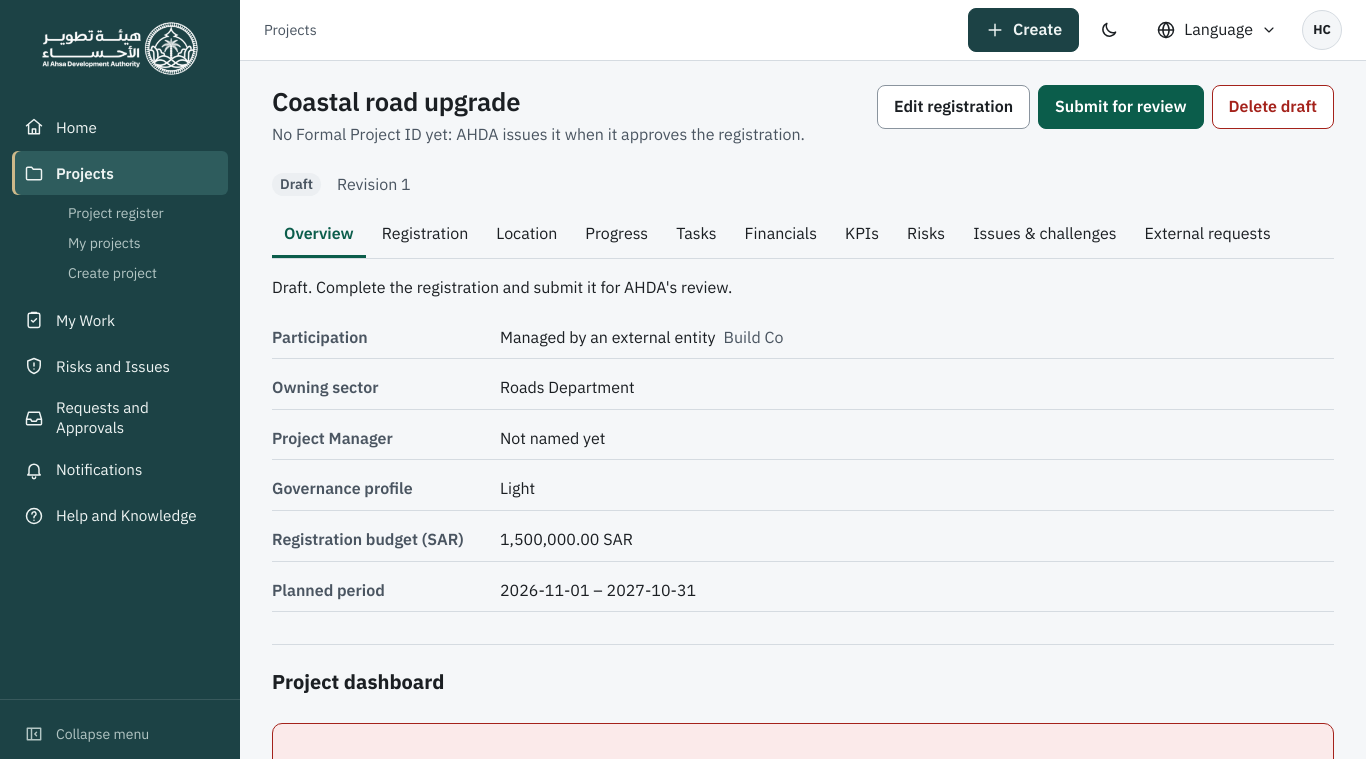
Test case: MOD-001 Delete Draft › is confirmed, sends the ETag, and returns to the register
Click the button "Delete draft".
click(1273, 107)  # box top-left (1212, 85), bottom-right (1334, 129)
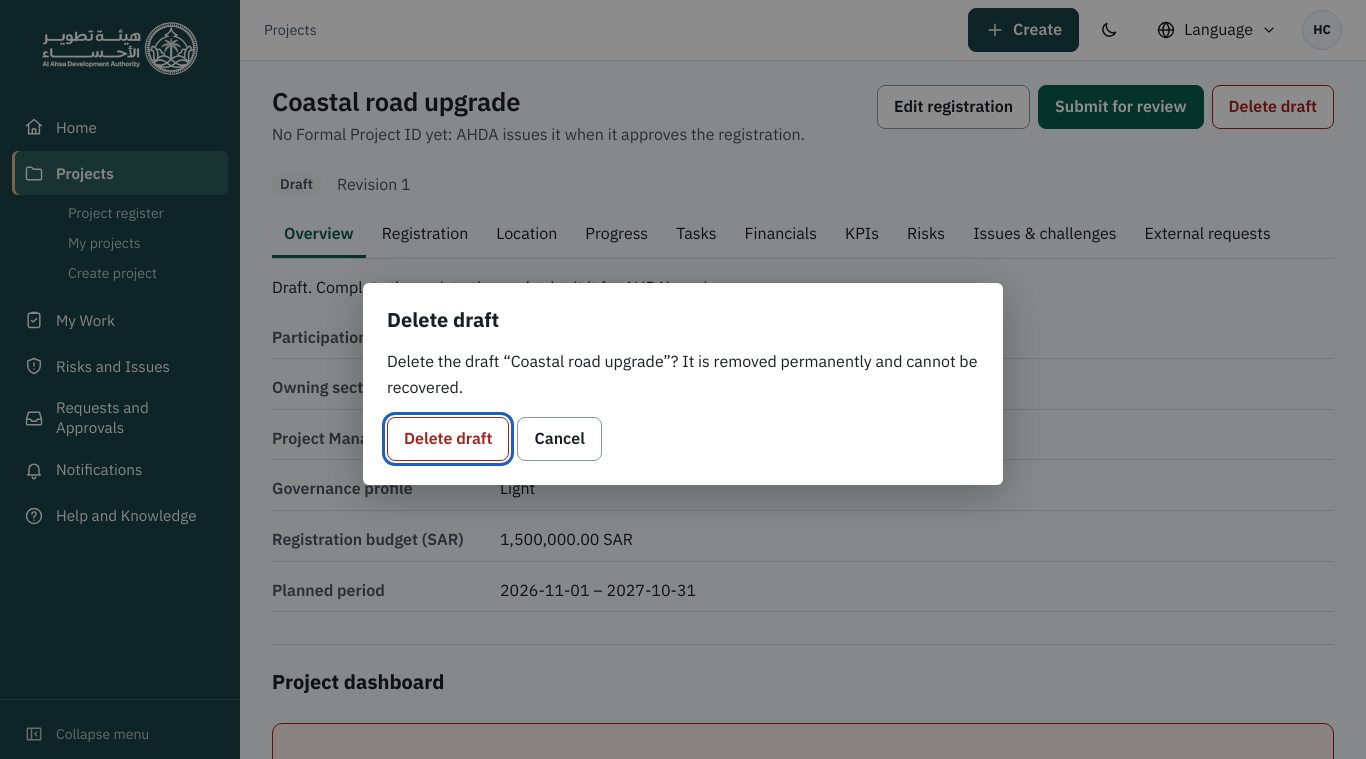
Click the button "Delete draft".
click(448, 439)  # box top-left (387, 417), bottom-right (510, 461)
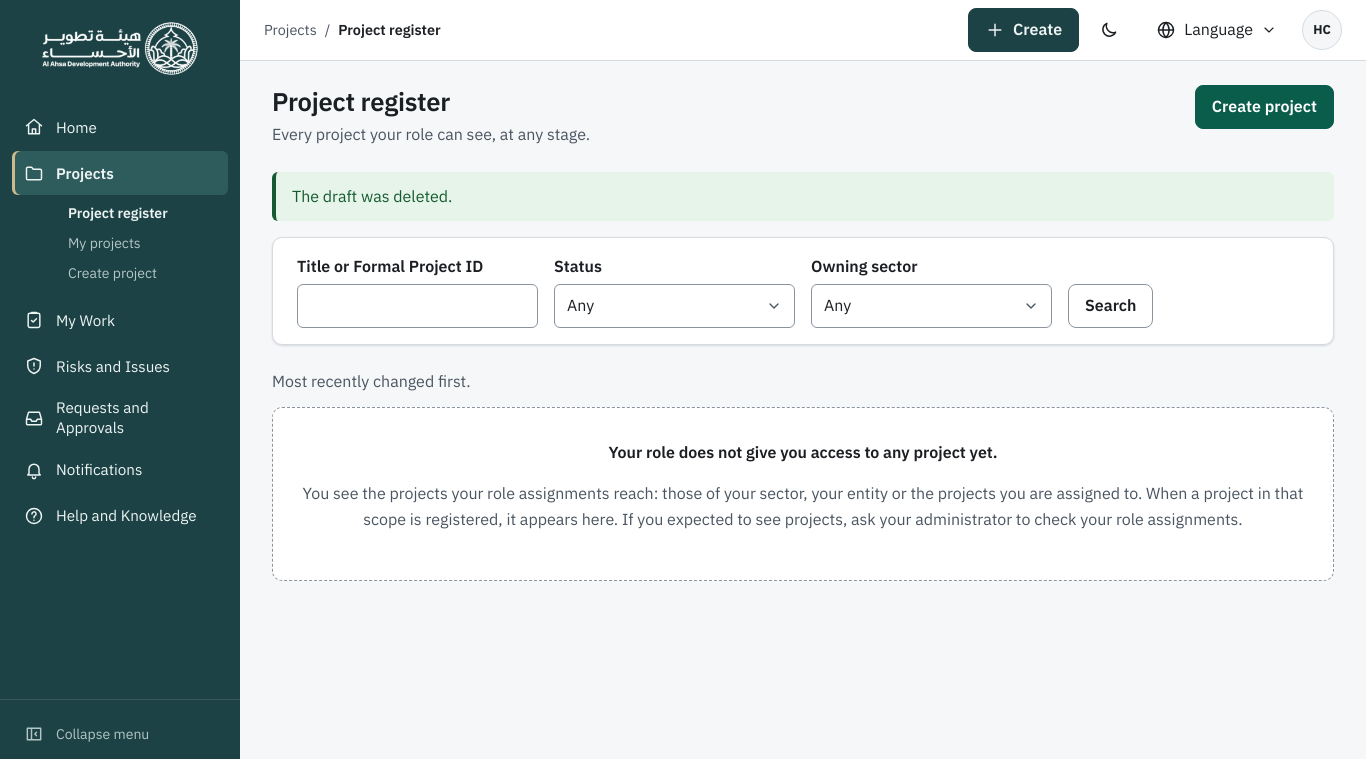
Expected: the text "The draft was deleted." is shown, top-left (272, 172), bottom-right (1334, 222)
Expected: the heading "Project register" is shown, top-left (272, 85), bottom-right (450, 118)
